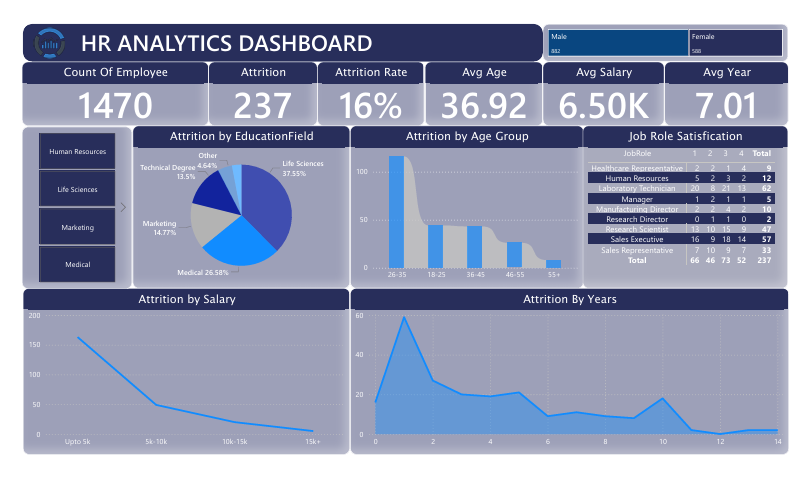

Layout of this report page (visuals, bound fields, positions):
{"tool":"powerbi","page":{"name":"Page 1","canvas":[1280,720],"ordinal":0},"visuals":[{"type":"card","title":"Count Of Employee","fields":{"Values":["CountNonNull(HR_Analytics.EmpID)"]},"box":[0,62.7,311.9,107.5],"z":0},{"type":"card","title":"Attrition","fields":{"Values":["Sum(HR_Analytics.Attrition Count)"]},"box":[311.9,62.7,182.1,107.5],"z":1000},{"type":"card","title":"Attrition Rate","fields":{"Values":["select","HR_Analytics.Attrition Rate"]},"box":[494,62.7,179.1,107.5],"z":2000},{"type":"card","title":"Avg Age","fields":{"Values":["Avg(HR_Analytics.Age)"]},"box":[673.1,62.7,197,107.5],"z":3000},{"type":"card","title":"Avg Salary","fields":{"Values":["Avg(HR_Analytics.MonthlyIncome)"]},"box":[870.1,62.7,203,107.5],"z":4000},{"type":"card","title":"Avg Year","fields":{"Values":["Avg(HR_Analytics.YearsAtCompany)"]},"box":[1073.1,62.7,207.5,107.5],"z":5000},{"type":"pieChart","title":"Attrition by EducationField","fields":{"Category":["HR_Analytics.EducationField"],"Y":["Sum(HR_Analytics.Attrition Count)"]},"box":[184.3,169.9,362.9,272.2],"z":6000},{"type":"ribbonChart","title":"Attrition by Age Group","fields":{"Category":["HR_Analytics.AgeGroup (groups)"],"Y":["Sum(HR_Analytics.Attrition Count)"]},"box":[547.8,170.1,389.6,271.6],"z":7000},{"type":"pivotTable","title":"Job Role Satisfication","fields":{"Rows":["HR_Analytics.JobRole"],"Columns":["HR_Analytics.JobSatisfaction"],"Values":["Sum(HR_Analytics.Attrition Count)"]},"box":[937.3,170.1,343.3,271.6],"z":8000},{"type":"lineChart","title":"Attrition by Salary","fields":{"Category":["HR_Analytics.SalarySlab"],"Y":["Sum(HR_Analytics.Attrition Count)"]},"box":[1.5,441.8,546.3,277.6],"z":9000},{"type":"areaChart","title":"Attrition By Years","fields":{"Category":["HR_Analytics.YearsAtCompany"],"Y":["Sum(HR_Analytics.Attrition Count)"]},"box":[547.8,441.8,732.8,277.6],"z":10000},{"type":"treemap","title":"Gender","fields":{"Values":["CountNonNull(HR_Analytics.Gender)"],"Details":["HR_Analytics.Gender"]},"box":[870,0,410,62.9],"z":11000},{"type":"shape","box":[1.4,0,868.6,62.9],"z":12000},{"type":"textbox","box":[92.9,0,507.1,81.4],"z":13000},{"type":"slicer","title":"Attrition by EducationField","fields":{"Values":["HR_Analytics.EducationField"]},"box":[0,171.4,184.3,270.7],"z":14000},{"type":"image","box":[15,0,62.5,63.8],"z":14001}]}

Visuals, with their boxes in screenshot pixels (x1, y1, x2, y2):
"Count Of Employee" card: {"x1": 19, "y1": 59, "x2": 207, "y2": 124}
"Attrition" card: {"x1": 207, "y1": 59, "x2": 317, "y2": 124}
"Attrition Rate" card: {"x1": 317, "y1": 59, "x2": 425, "y2": 124}
"Avg Age" card: {"x1": 425, "y1": 59, "x2": 544, "y2": 124}
"Avg Salary" card: {"x1": 544, "y1": 59, "x2": 667, "y2": 124}
"Avg Year" card: {"x1": 667, "y1": 59, "x2": 792, "y2": 124}
"Attrition by EducationField" pieChart: {"x1": 130, "y1": 124, "x2": 349, "y2": 288}
"Attrition by Age Group" ribbonChart: {"x1": 350, "y1": 124, "x2": 585, "y2": 288}
"Job Role Satisfication" pivotTable: {"x1": 585, "y1": 124, "x2": 792, "y2": 288}
"Attrition by Salary" lineChart: {"x1": 20, "y1": 288, "x2": 350, "y2": 455}
"Attrition By Years" areaChart: {"x1": 350, "y1": 288, "x2": 792, "y2": 455}
"Gender" treemap: {"x1": 544, "y1": 21, "x2": 791, "y2": 59}
shape: {"x1": 20, "y1": 21, "x2": 544, "y2": 59}
textbox: {"x1": 75, "y1": 21, "x2": 381, "y2": 70}
"Attrition by EducationField" slicer: {"x1": 19, "y1": 125, "x2": 130, "y2": 288}
image: {"x1": 28, "y1": 21, "x2": 66, "y2": 60}
